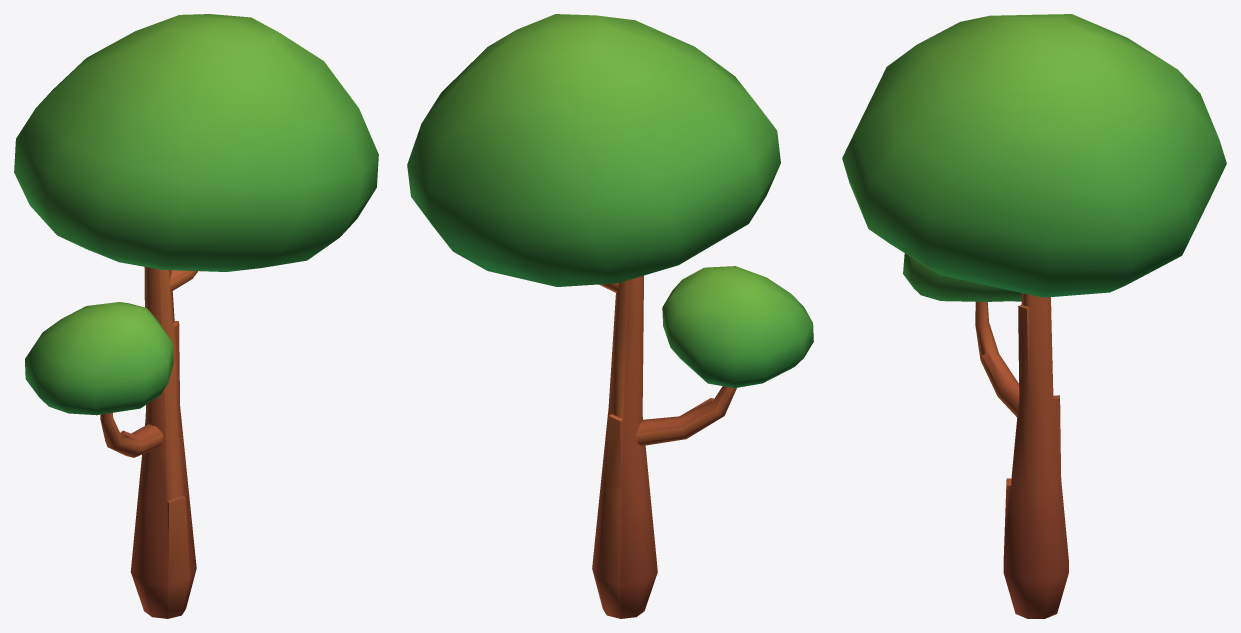
File: Tree_7_A_Color1.gltf
3 renders of one model, left to right at view 1: azimuth 30°, elevation 25°; view 2: azimuth 150°, elevation 25°; view 3: azimuth 270°, elevation 25°, orthographic. The views are drawn at different scales.
Parts seen in each view (by area): view 1: Tree_7_A_Color1; view 2: Tree_7_A_Color1; view 3: Tree_7_A_Color1.
Boxes of the visible parts, x1,y1,x2,y2 form: Tree_7_A_Color1: [14, 14, 378, 618]; Tree_7_A_Color1: [407, 14, 813, 618]; Tree_7_A_Color1: [842, 14, 1226, 618].
Bounding box in the file's own units: 3.14 × 5.09 × 2.89.
Materials: 1 (1 with a texture image).
